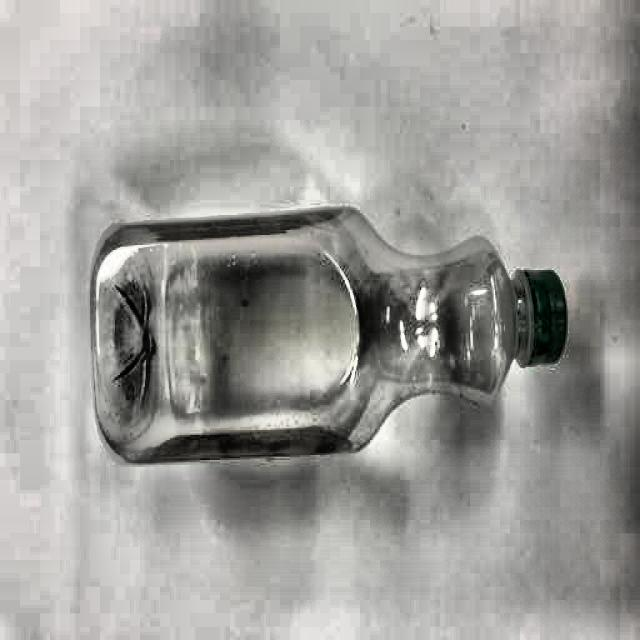plastic: (89, 212, 572, 468)
